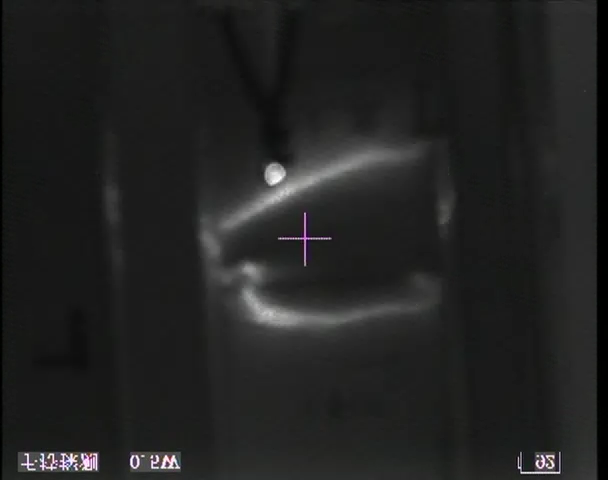my: (261, 160, 289, 187)
